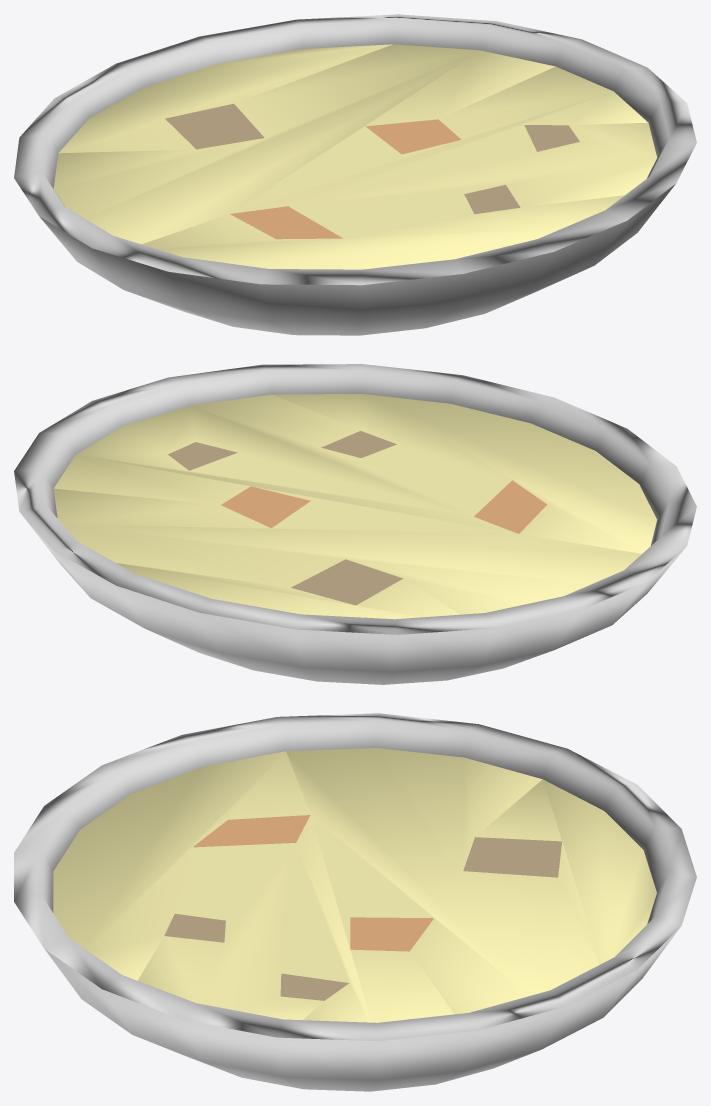
File: Stew.fbx
3 renders of one model, top to bottom at view 1: azimuth 30°, elevation 25°; view 2: azimuth 150°, elevation 25°; view 3: azimuth 270°, elevation 25°, orthographic. The views are drawn at different scales.
Visible parts, largest first — view 1: 球; view 2: 球; view 3: 球.
Boxes of the visible parts, x1,y1,x2,y2 form: 球: (14,14,696,335); 球: (14,364,696,684); 球: (14,713,696,1091).
Bounding box in the file's own units: 196 × 43.29 × 173.
